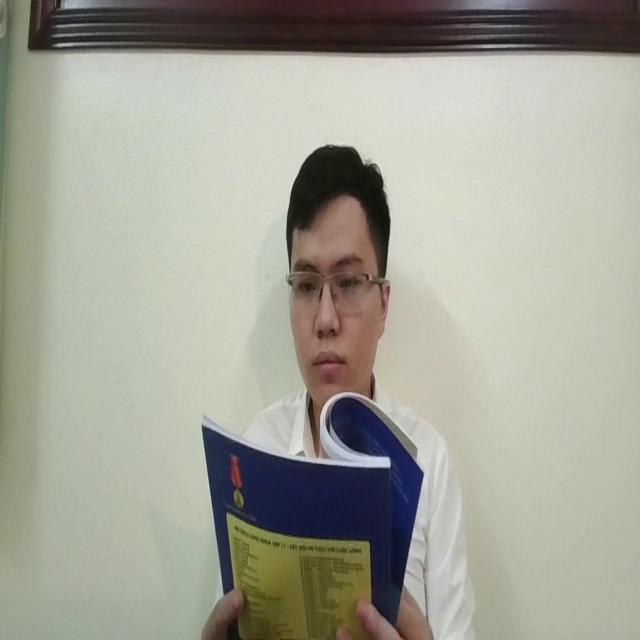book: (199, 397, 422, 640)
student: (235, 139, 472, 640)
